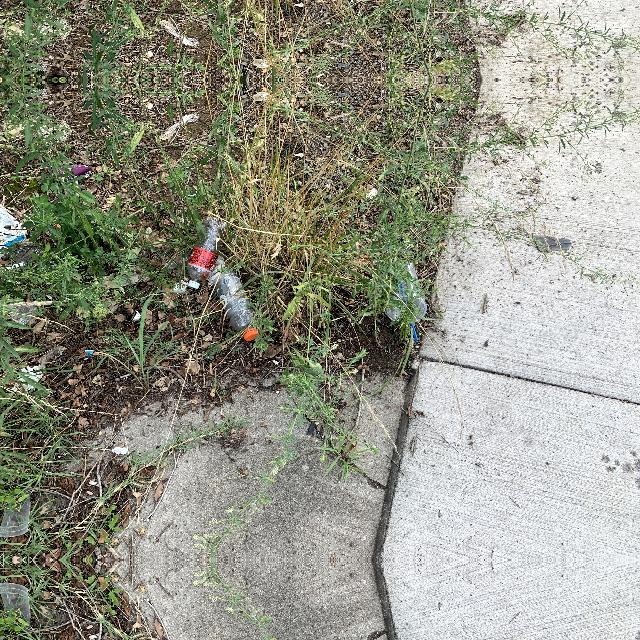Coffee Cup: (383, 262, 429, 342)
Plastic: (208, 263, 258, 343), (178, 210, 224, 292), (0, 489, 34, 538), (0, 581, 34, 630)
